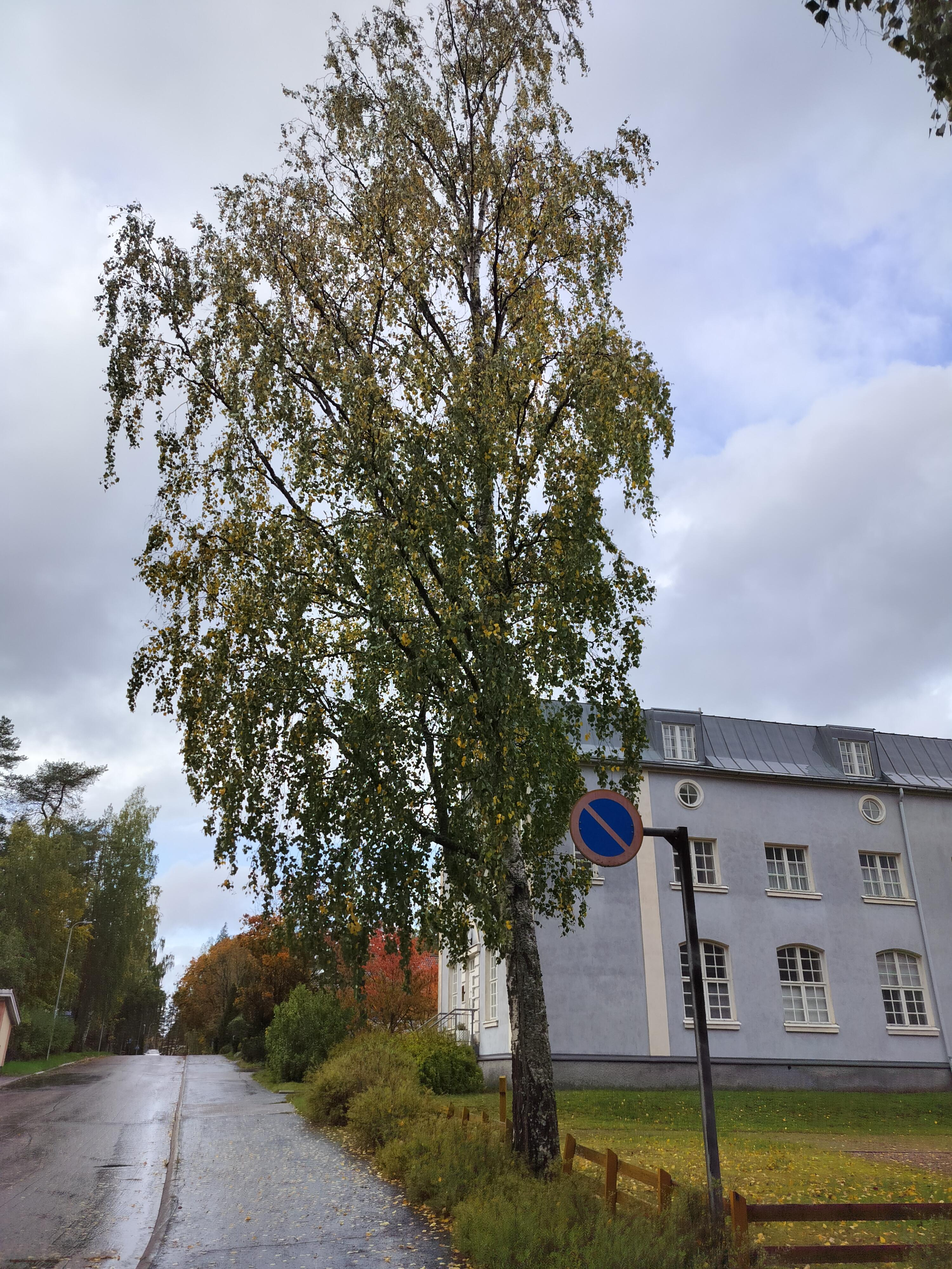Birch: (92, 1, 677, 1180)
